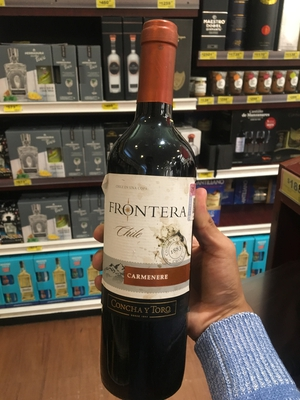frontera carmenere: (94, 16, 196, 391)
